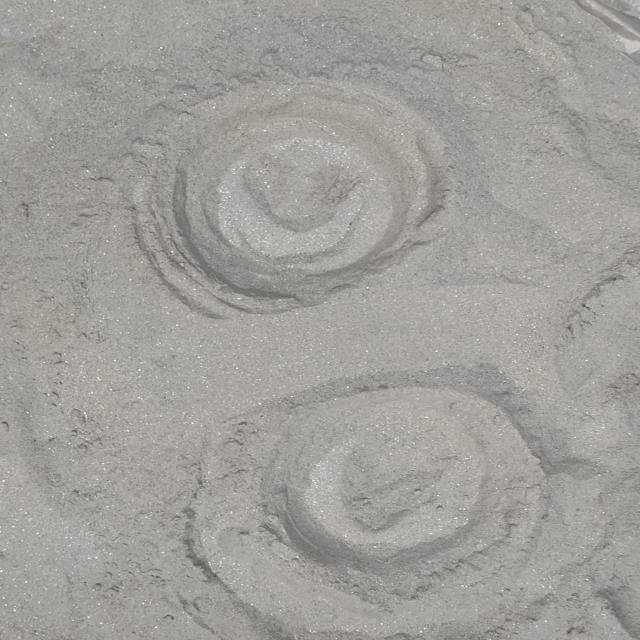C20: (168, 84, 439, 295), (282, 389, 538, 573)
